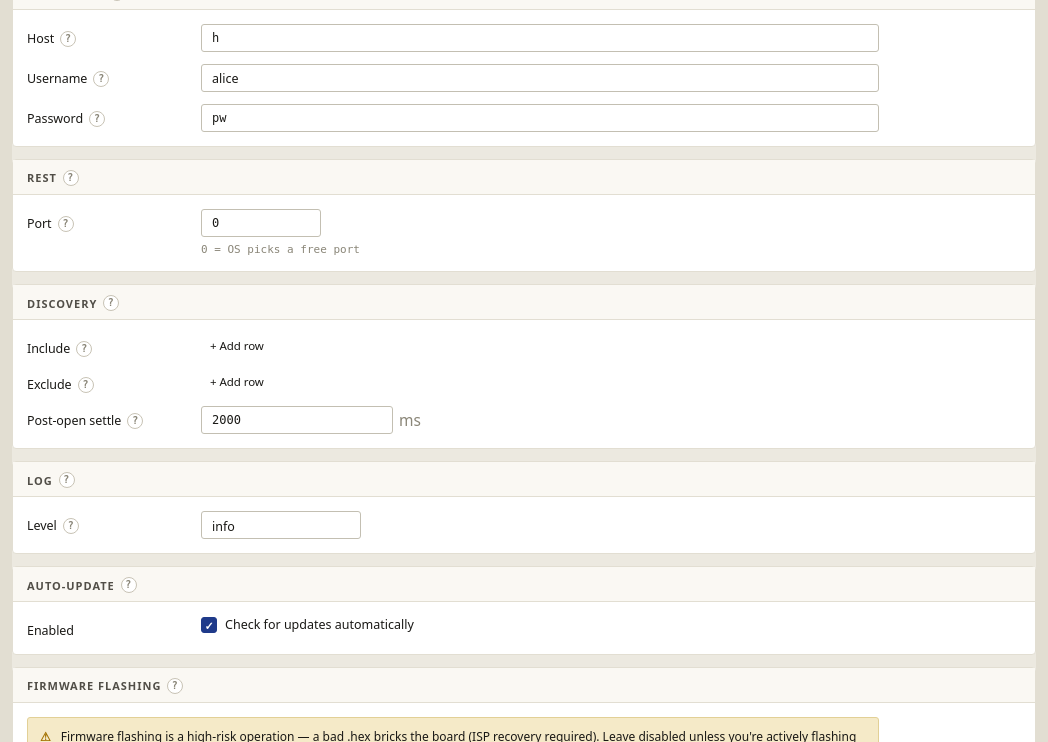
Test: ConfigTab › paints both Username and Password red but renders the rejection message only under Password
Replace the text in the field showing "alice" next to "Username" with "bob": (540, 78) [201,64,879,92]
(page scrolled)
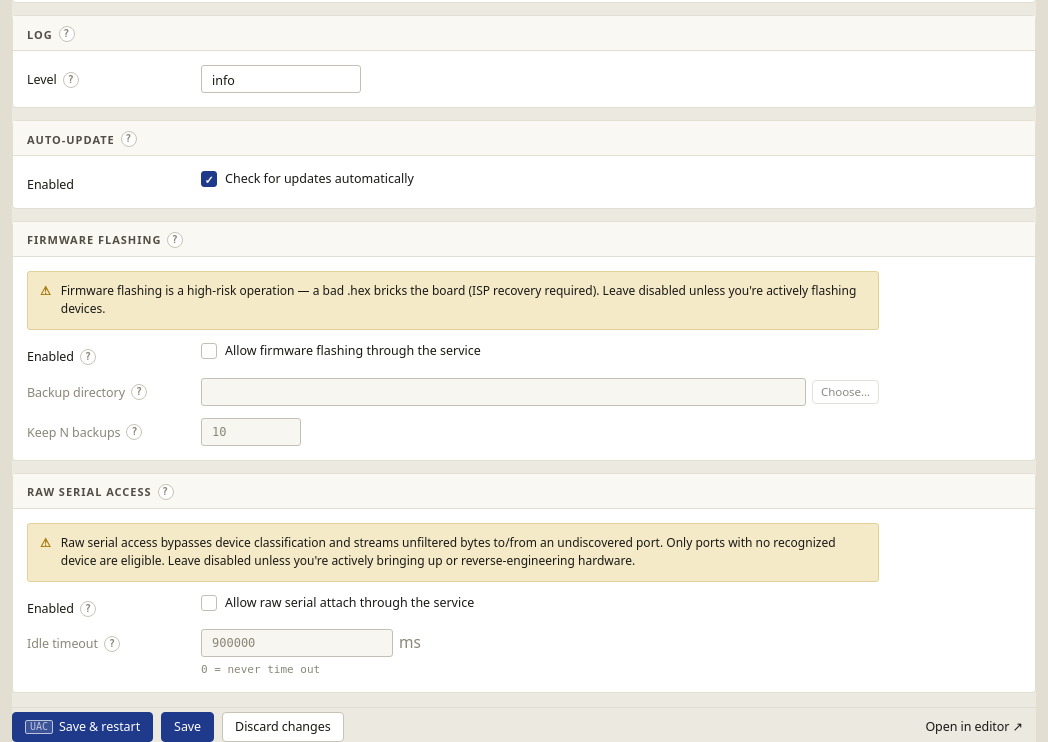
Click the button "Save": (188, 727) [161,712,214,741]
(page scrolled)
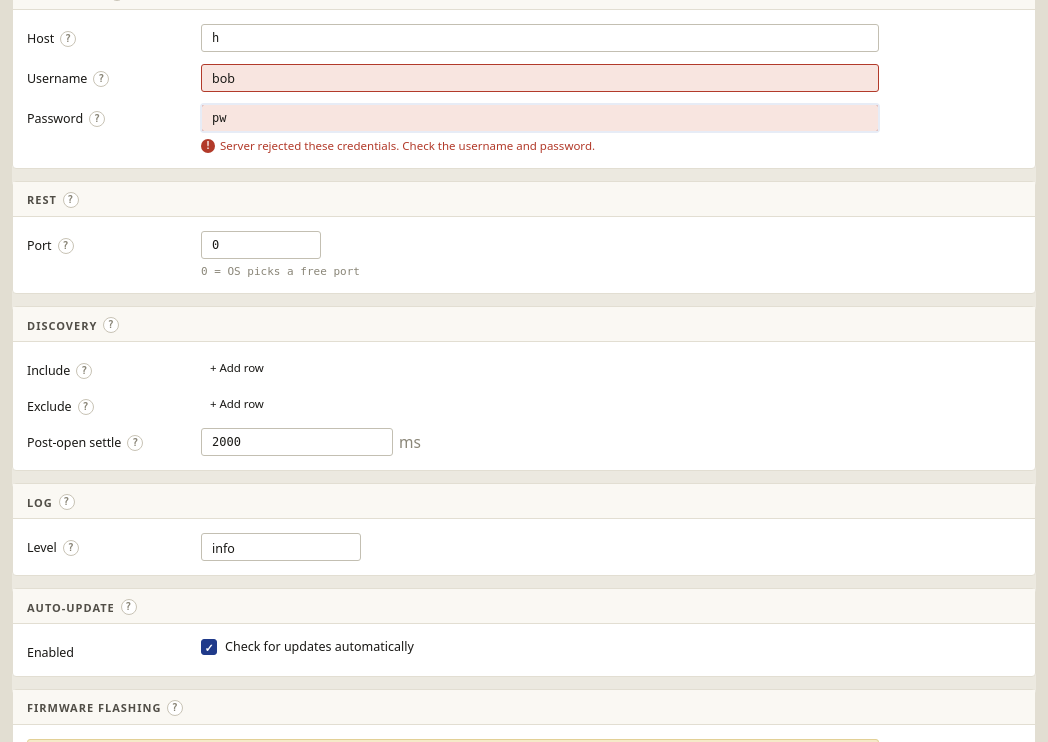
Check: the text "rejected these credentials" is shown once, box [220,138,595,153]
